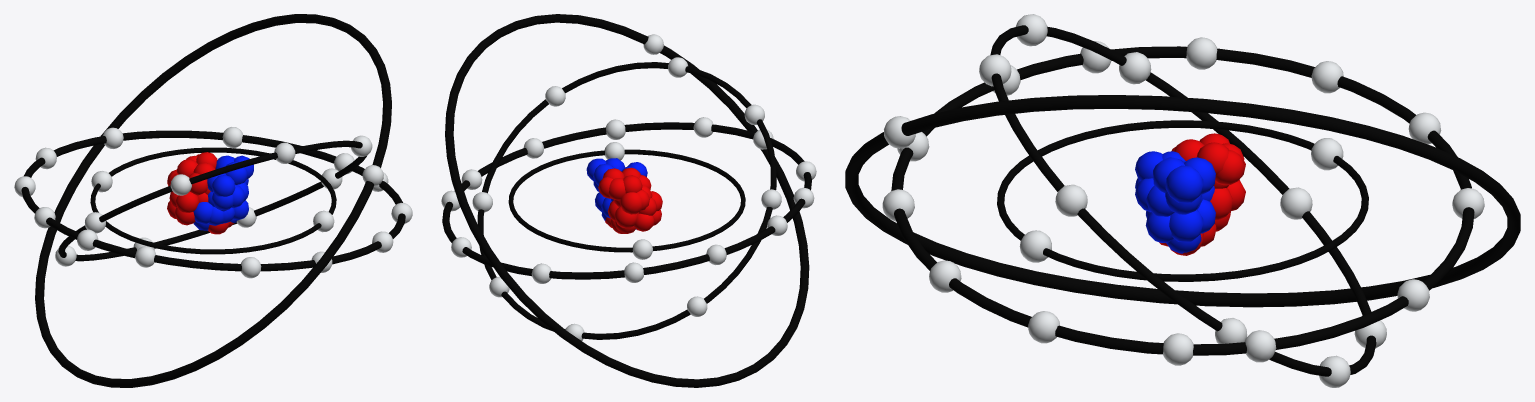
Rendered from 29 Cobre.fbx.
3 renders of one model, left to right at view 1: azimuth 30°, elevation 25°; view 2: azimuth 150°, elevation 25°; view 3: azimuth 270°, elevation 25°, orthographic. The views are drawn at different scales.
Parts seen in each view (by area): view 1: Orbita.004, Orbita.003, Orbita.002, Orbita.001, Neutron.006, Neutron.001, Sphere.031, Sphere.013, Electron.002, Electron.023, Electron.011, Electron.005 (+5 smaller); view 2: Orbita.004, Orbita.003, Orbita.002, Orbita.001, Neutron.006, Neutron.002, Neutron.005, Electron.001, Electron.008, Electron.018, Electron.007, Electron.022 (+9 smaller); view 3: Orbita.004, Orbita.003, Orbita.002, Orbita.001, Neutron.006, Neutron.003, Neutron.002, Electron.020, Electron.008, Electron.021, Electron.015, Electron.007 (+19 smaller).
Part boxes in pixels (x1,y1,x2,y2): Orbita.004: (35, 14, 391, 387); Orbita.003: (21, 130, 405, 271); Orbita.002: (58, 140, 366, 261); Orbita.001: (90, 147, 336, 254); Neutron.006: (215, 155, 253, 185); Neutron.001: (193, 202, 212, 230); Sphere.031: (211, 175, 235, 196); Sphere.013: (175, 191, 198, 212); Electron.002: (170, 174, 191, 195); Electron.023: (135, 246, 155, 267); Electron.011: (241, 257, 261, 278); Electron.005: (222, 127, 242, 148); Orbita.004: (445, 14, 809, 387); Orbita.003: (442, 122, 811, 279); Orbita.002: (477, 62, 776, 339); Orbita.001: (508, 149, 745, 252); Neutron.006: (586, 158, 624, 191); Neutron.002: (607, 200, 637, 233); Neutron.005: (614, 186, 652, 214); Electron.001: (632, 239, 652, 259); Electron.008: (545, 86, 565, 106); Electron.018: (606, 119, 625, 139); Electron.007: (687, 296, 707, 316); Electron.022: (624, 262, 643, 282); Orbita.004: (845, 95, 1520, 307); Orbita.003: (891, 46, 1474, 355); Orbita.002: (990, 25, 1376, 376); Orbita.001: (997, 120, 1368, 281); Neutron.006: (1153, 157, 1215, 214); Neutron.003: (1166, 199, 1215, 253); Neutron.002: (1210, 180, 1245, 231); Electron.020: (1186, 37, 1217, 69); Electron.008: (1055, 184, 1087, 216); Electron.021: (1163, 333, 1193, 365); Electron.015: (1244, 330, 1276, 362); Electron.007: (1280, 187, 1312, 219).
Size of the model in its own units: 14.06 by 12.48 by 9.56.
